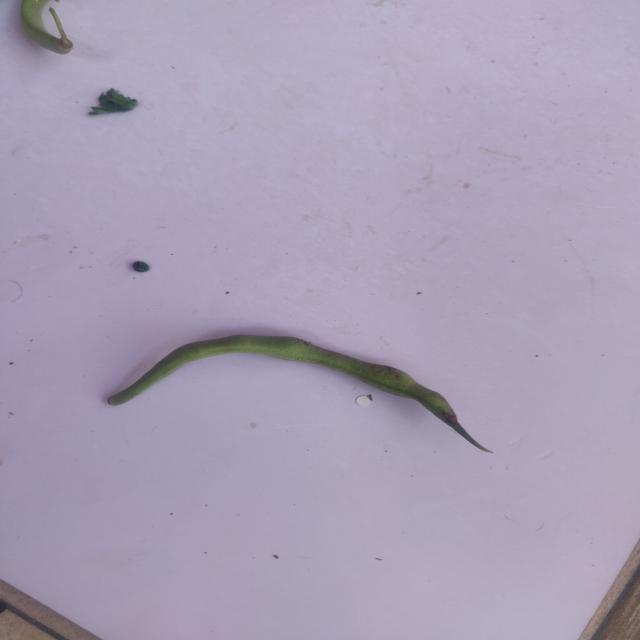Beans: (95, 320, 503, 462)
